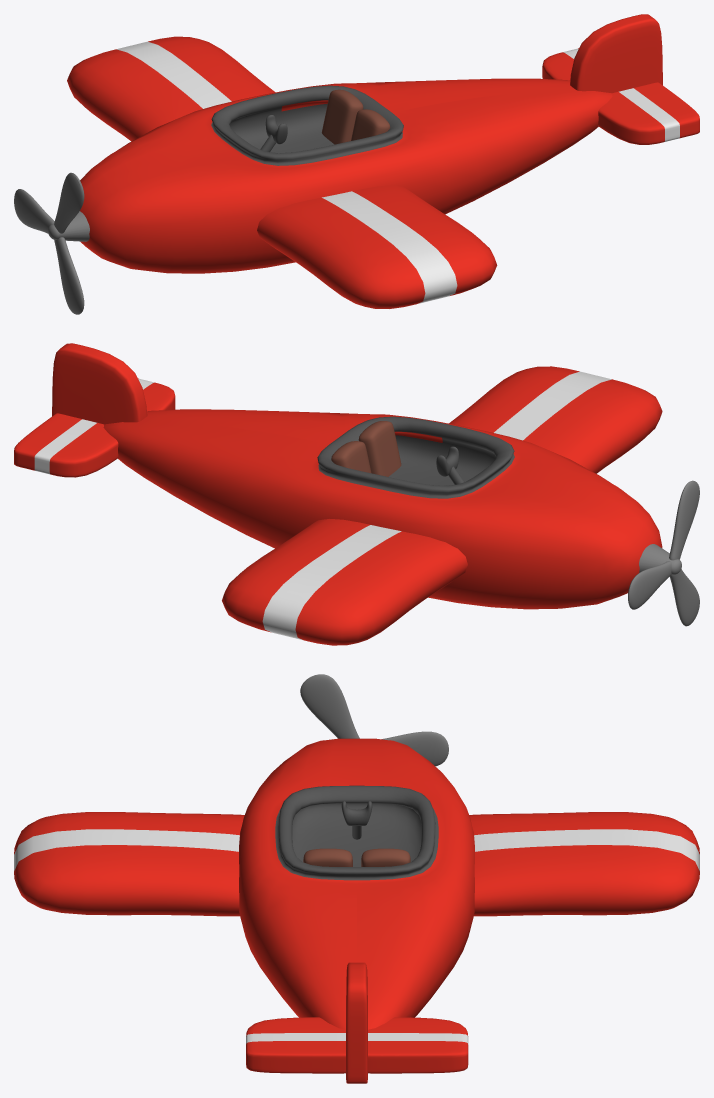
The picture shows the model from 3 angles, top to bottom: view 1: azimuth 30°, elevation 25°; view 2: azimuth 150°, elevation 25°; view 3: azimuth 270°, elevation 25°; orthographic projection. The views are drawn at different scales.
Visible parts, largest first — view 1: Cube, Cube.007, Cube.003, Cube.002, Cube.005, Cube.004, Cube.001, Cube.006; view 2: Cube, Cube.007, Cube.003, Cube.002, Cube.004, Cube.005, Cube.001, Cube.006; view 3: Cube, Cube.007, Cube.003, Cube.002, Cube.004, Cube.005, Cube.006.
Part boxes in pixels (box(x1,y1,x2,y2)): Cube: box(80, 78, 612, 273); Cube.007: box(67, 36, 497, 308); Cube.003: box(542, 14, 699, 144); Cube.002: box(14, 172, 84, 314); Cube.005: box(321, 89, 363, 144); Cube.004: box(351, 109, 390, 140); Cube.001: box(48, 211, 89, 241); Cube.006: box(260, 115, 287, 151); Cube: box(103, 409, 662, 609); Cube.007: box(222, 366, 662, 645); Cube.003: box(14, 343, 175, 477); Cube.002: box(628, 480, 699, 626); Cube.004: box(358, 421, 401, 476); Cube.005: box(331, 441, 371, 473); Cube.001: box(639, 544, 681, 574); Cube.006: box(436, 446, 464, 484); Cube: box(239, 738, 474, 1029); Cube.007: box(14, 812, 699, 916); Cube.003: box(246, 962, 468, 1083); Cube.002: box(300, 674, 448, 766); Cube.004: box(303, 848, 352, 866); Cube.005: box(361, 848, 410, 866); Cube.006: box(341, 801, 372, 839).
Bounding box in the file's own units: 93.98 × 20.83 × 85.18.
